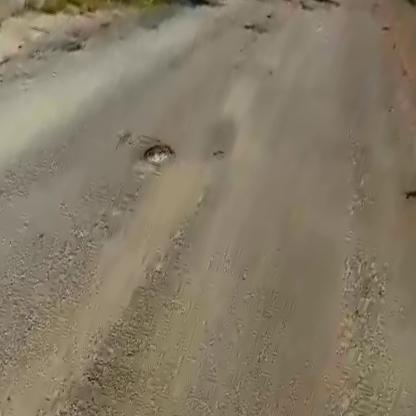pothole: (131, 133, 180, 178)
